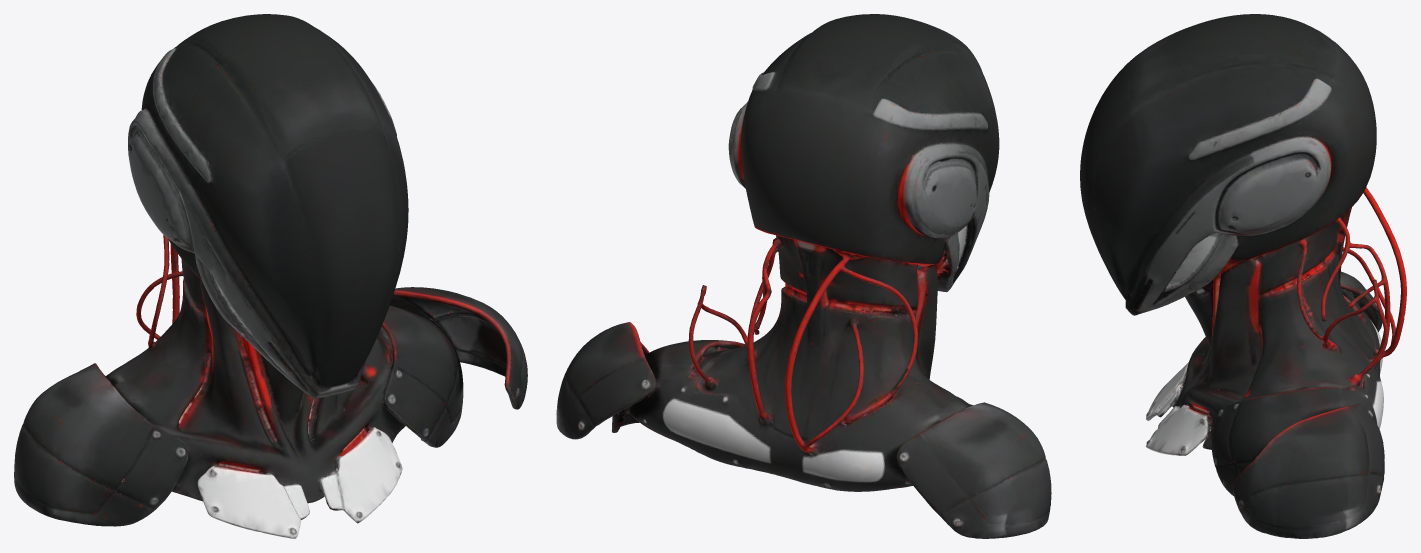
File: hero-character.glb
The picture shows the model from 3 angles, left to right: view 1: azimuth 30°, elevation 25°; view 2: azimuth 150°, elevation 25°; view 3: azimuth 270°, elevation 25°; orthographic projection. The views are drawn at different scales.
Parts seen in each view (by area): view 1: Mesh1.0; view 2: Mesh1.0; view 3: Mesh1.0.
Part boxes in pixels (x1,y1,x2,y2): Mesh1.0: (14,14,527,538); Mesh1.0: (556,14,1051,538); Mesh1.0: (1080,14,1406,538).
Size of the model in its own units: 2.01 by 1.79 by 1.3.
Materials: 1 (1 with a texture image).
